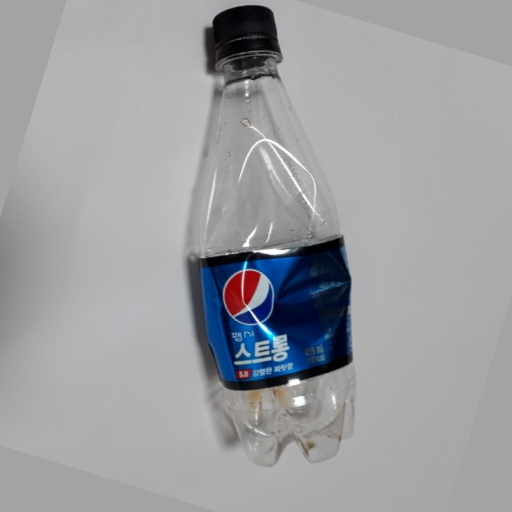Plastic_0: (190, 6, 366, 468)
